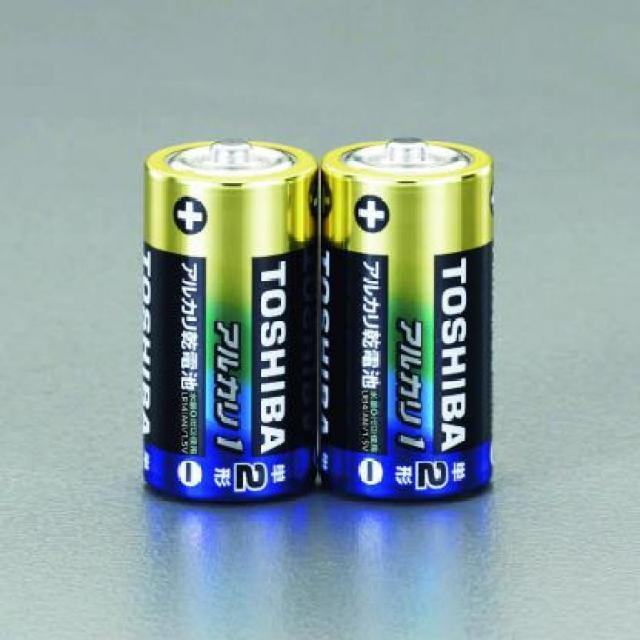hazardous waste: (316, 133, 507, 510), (142, 137, 318, 503)
